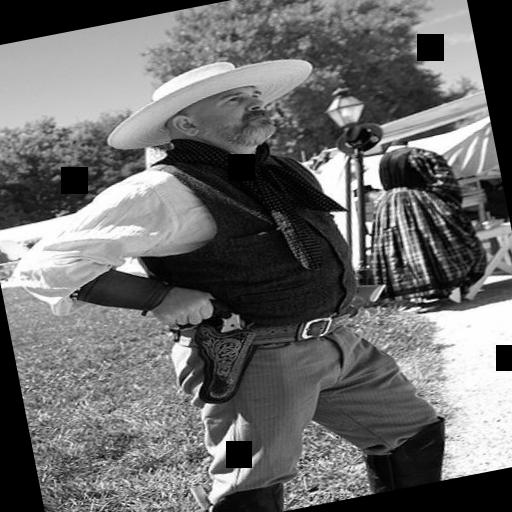Handgun: (171, 285, 268, 405)
